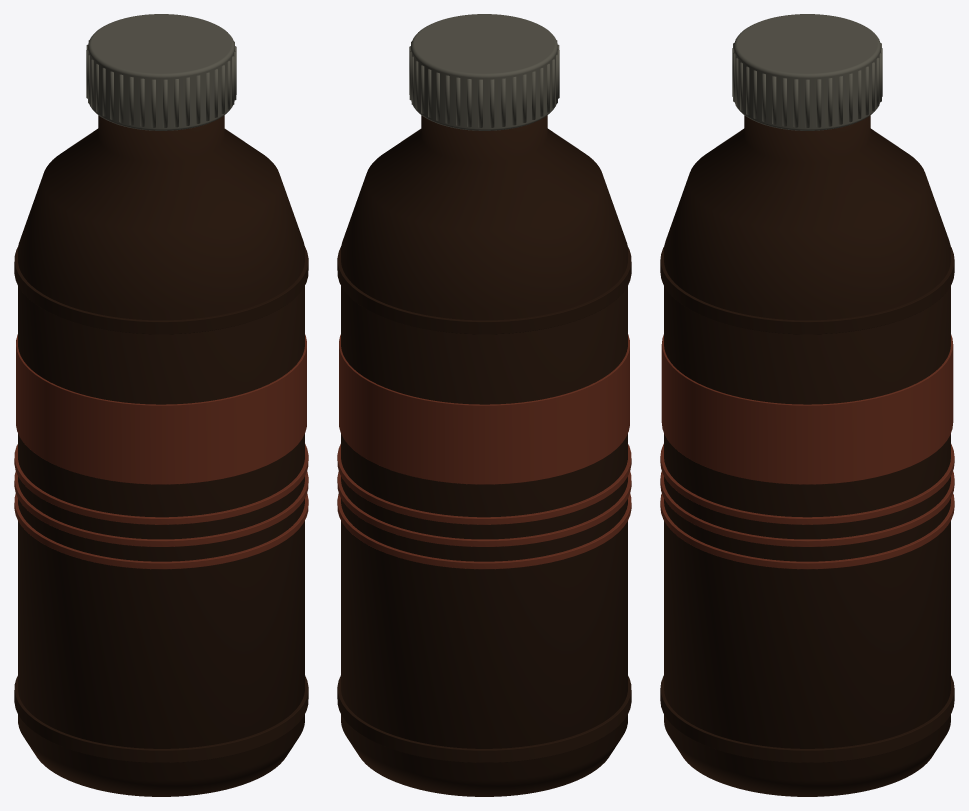
Rendered from C04_FixerBottle.fbx.
The picture shows the model from 3 angles, left to right: view 1: azimuth 30°, elevation 25°; view 2: azimuth 150°, elevation 25°; view 3: azimuth 270°, elevation 25°; orthographic projection.
Parts seen in each view (by area): view 1: Body_Mesh, BottleCap_Mesh; view 2: Body_Mesh, BottleCap_Mesh; view 3: Body_Mesh, BottleCap_Mesh.
Part boxes in pixels (x1,y1,x2,y2): Body_Mesh: [14, 115, 308, 796]; BottleCap_Mesh: [86, 14, 236, 130]; Body_Mesh: [337, 115, 631, 796]; BottleCap_Mesh: [409, 14, 559, 130]; Body_Mesh: [660, 115, 954, 796]; BottleCap_Mesh: [732, 14, 882, 130].
Size of the model in its own units: 0.084 by 0.22 by 0.084.
